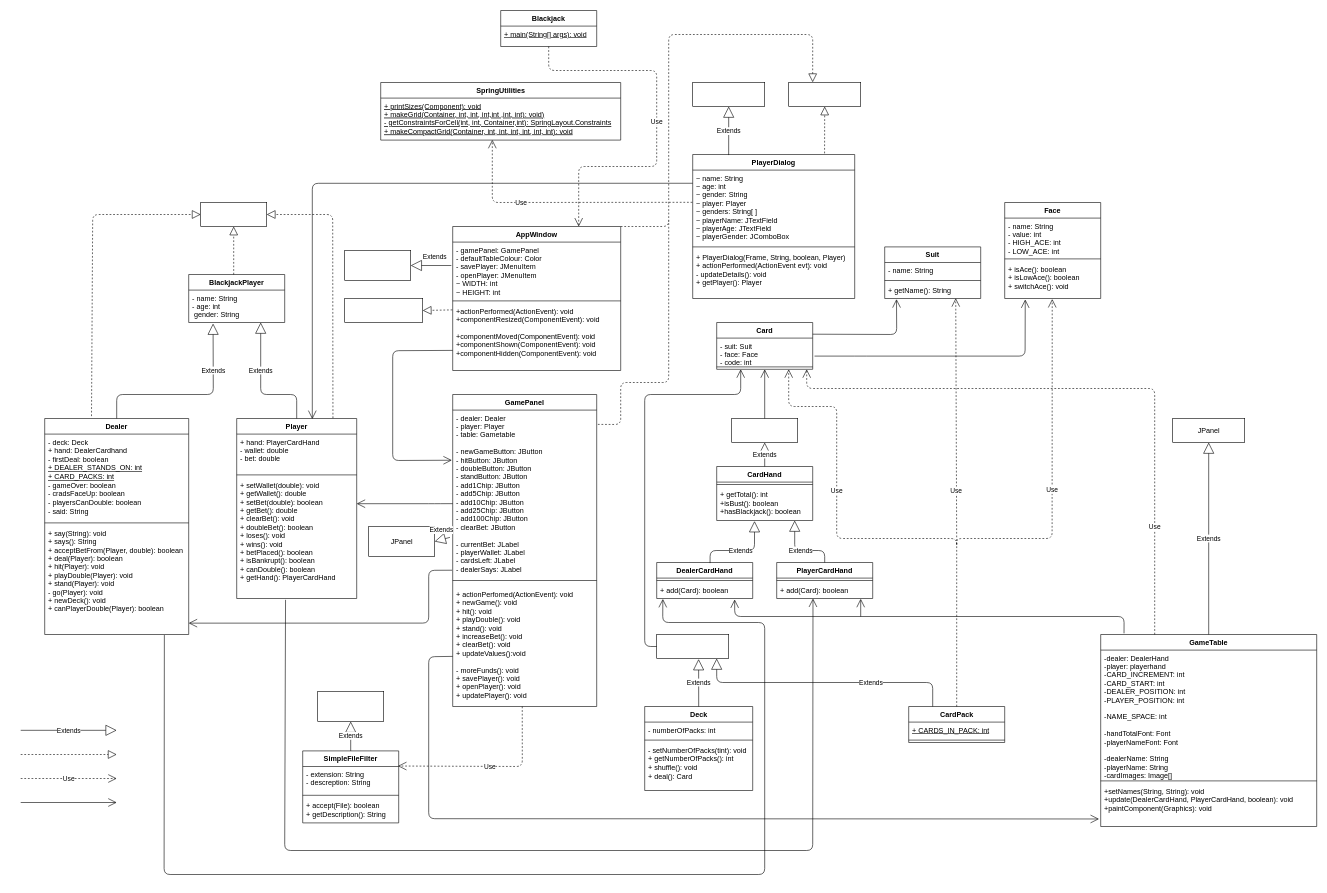
Image size: 1327x893. Some labels were removed from this diagram. The shapes that lost their labels are listed below. From the top down, each one's centre as x and y in pixels, then its label:
At (728,94): "JDialog".
At (824,94): "«interface» ActionListener".
At (233,214): "«interface» Serializable".
At (377,265): "JFrame".
At (383,310): "«interface» ComponentListener".
At (764,430): "Vector<Card>".
At (692,646): "Stack<Card>".
At (350,706): "FileFilter".
